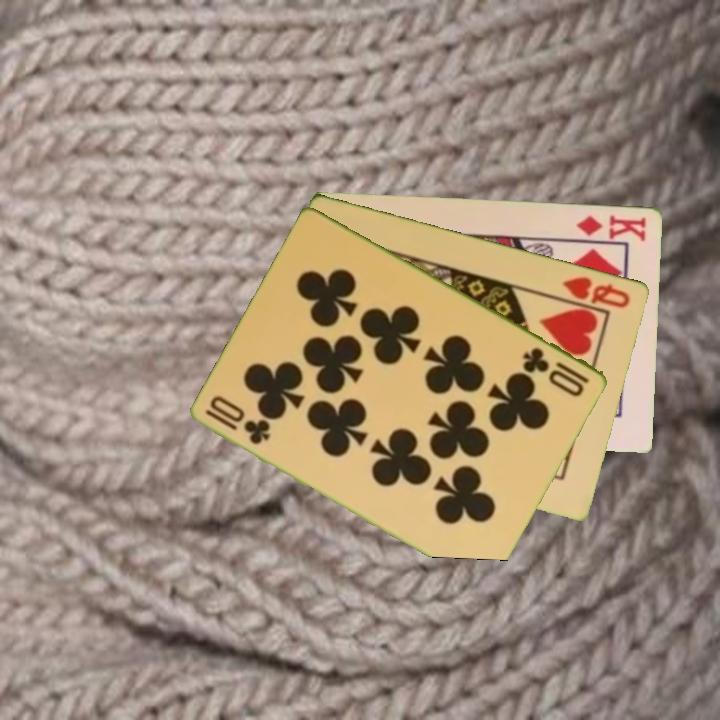10c: (519, 343, 593, 400), (202, 405, 274, 448)
Kd: (573, 211, 649, 244)
Qh: (559, 273, 634, 311)
